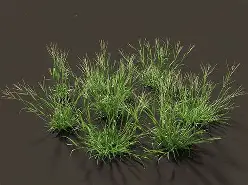weed: (2, 39, 244, 160), (131, 39, 244, 157), (71, 42, 145, 161), (2, 44, 77, 133)
